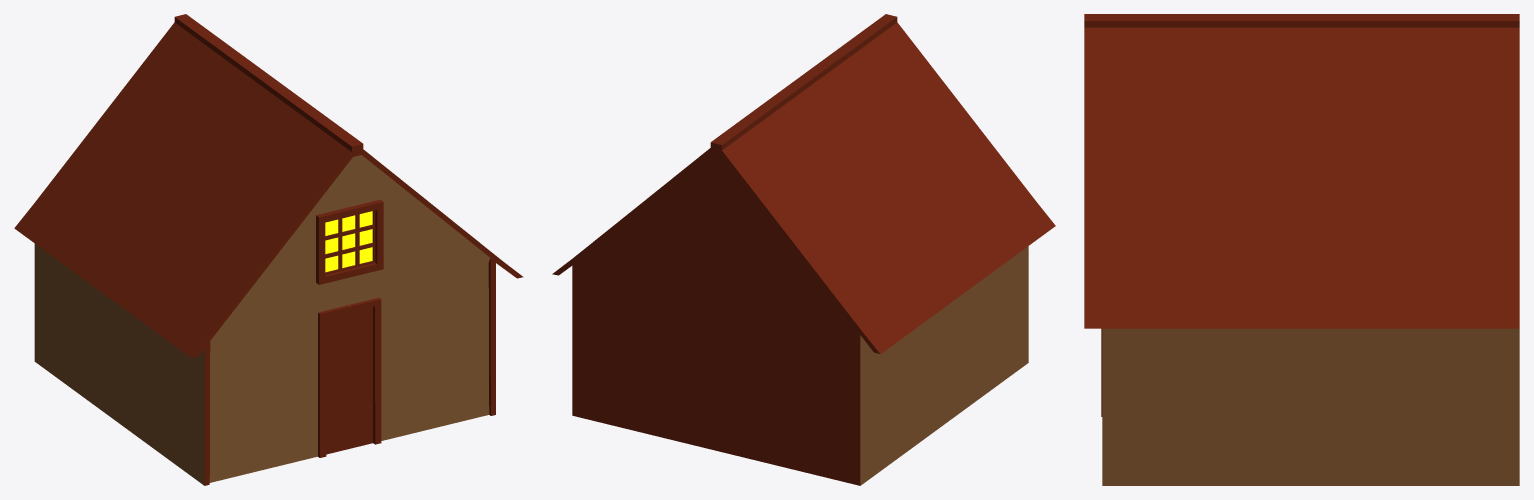
The model's file is cabin.fbx.
The picture shows the model from 3 angles, left to right: view 1: azimuth 30°, elevation 25°; view 2: azimuth 150°, elevation 25°; view 3: azimuth 270°, elevation 25°; orthographic projection. The views are drawn at different scales.
Visible parts, largest first — view 1: Cabin; view 2: Cabin; view 3: Cabin.
Boxes of the visible parts, <box> form: Cabin: <box>14,14,523,485</box>; Cabin: <box>552,14,1055,485</box>; Cabin: <box>1084,14,1519,485</box>.
Bounding box in the file's own units: 228 × 204 × 211.
